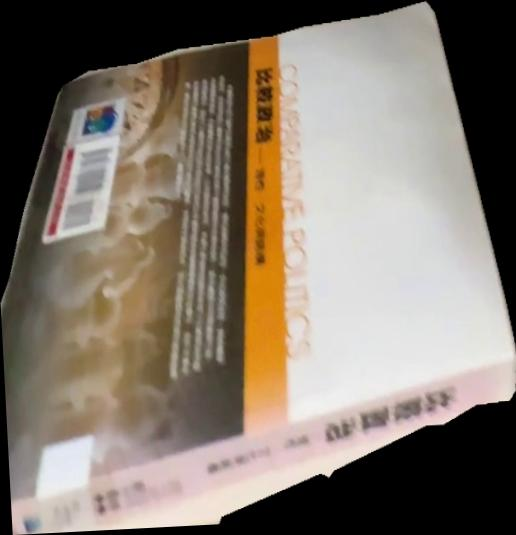flat: (1, 1, 516, 535)
